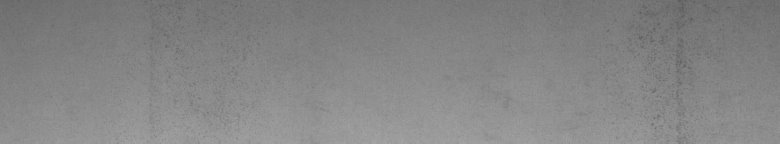ib: (639, 36, 690, 134)
